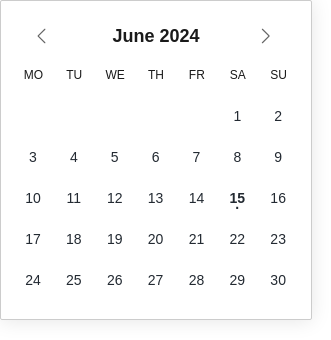
Test case: Datepicker.svelte — full behaviour › next/previous month navigation via click and Enter key
Click the link with class "icon-next-month" at (267, 36), box [249, 18, 285, 54]
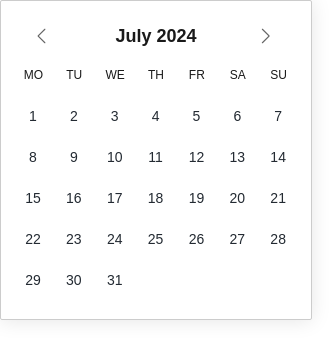
Expected: the text "July 2024" is shown, [116, 23, 197, 50]
Press Enter in the link with class "icon-previous-month", box [27, 18, 63, 54]
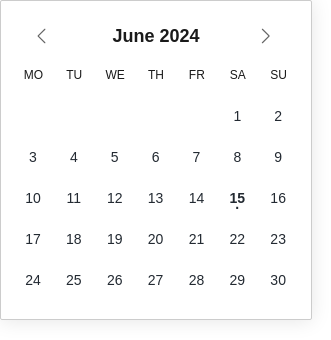
Expected: the text "June 2024" is shown, [112, 23, 200, 50]
